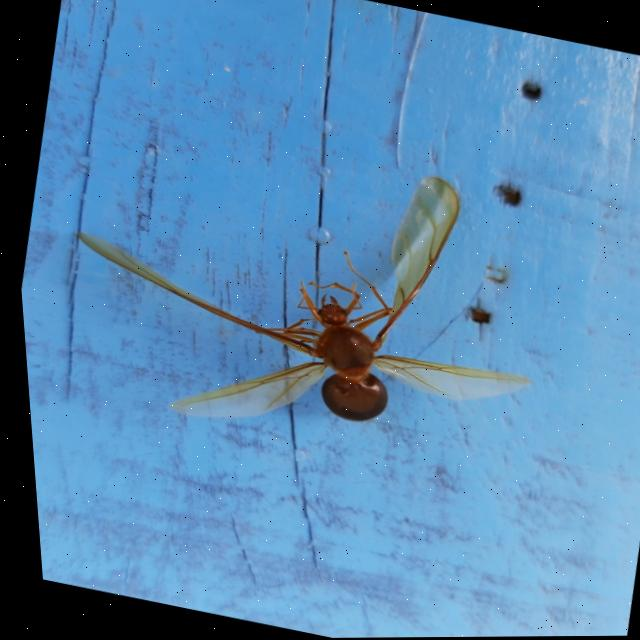Dead-Male-Alate: (32, 104, 570, 485)
